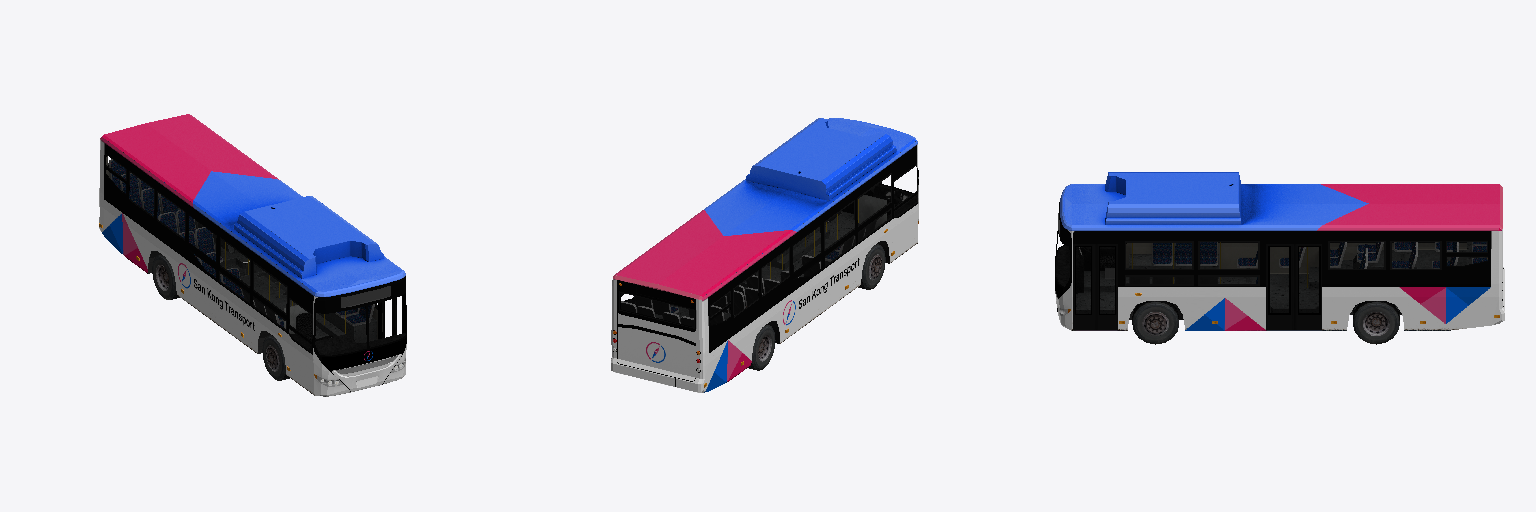
The picture shows the model from 3 angles: view 1: azimuth 30°, elevation 25°; view 2: azimuth 150°, elevation 25°; view 3: azimuth 270°, elevation 25°; orthographic projection.
Parts seen in each view (by area): view 1: ext, int__int__, windows__window__, wheel, fwheelL; view 2: ext, int__int__, windows__window__, fwheelL, wheel; view 3: ext, int__int__, wheel, windows__window__, fwheelR, doorBL, doorBR, doorFR, doorFL.
Boxes of the visible parts, box(x1,y1,x2,y2) form: ext: box(99, 114, 406, 396); int__int__: box(106, 155, 406, 355); windows__window__: box(105, 154, 377, 352); wheel: box(152, 254, 179, 299); fwheelL: box(262, 335, 289, 380); ext: box(611, 118, 918, 392); int__int__: box(620, 166, 918, 326); windows__window__: box(619, 164, 917, 328); fwheelL: box(858, 244, 885, 289); wheel: box(748, 324, 775, 370); ext: box(1055, 172, 1504, 330); int__int__: box(1055, 232, 1487, 313); wheel: box(1353, 301, 1399, 344); windows__window__: box(1125, 241, 1487, 285); fwheelR: box(1132, 301, 1178, 344); doorBL: box(1294, 244, 1321, 329); doorBR: box(1266, 244, 1293, 329); doorFR: box(1073, 244, 1095, 329); doorFL: box(1096, 244, 1117, 329).
Bounding box in the file's own units: 2.63 × 3.56 × 10.78.
Materials: 3 (3 with a texture image).